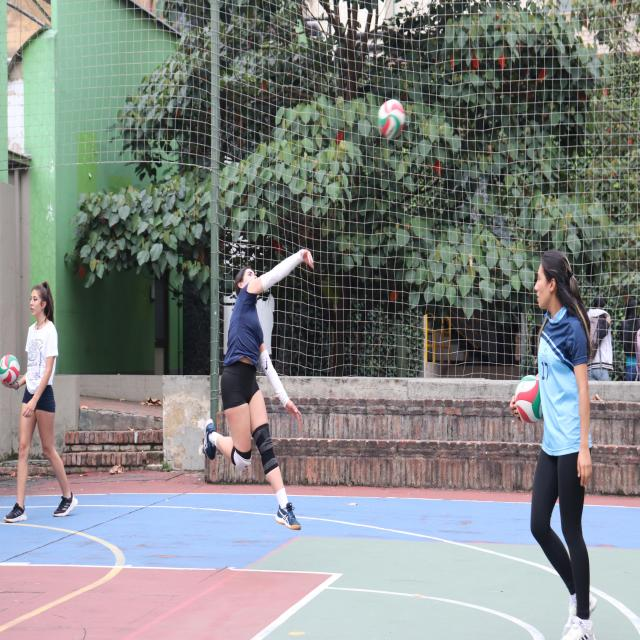volleyball: (515, 373, 544, 423), (378, 97, 406, 139), (1, 353, 20, 384)
